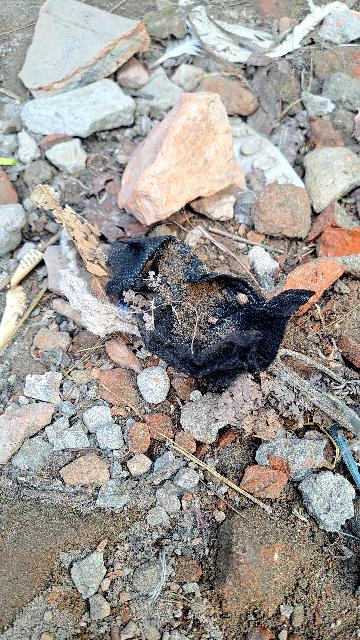mask: (86, 230, 309, 389)
